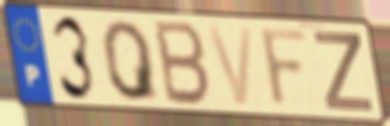3: (48, 14, 99, 103)
B: (153, 17, 213, 110)
F: (257, 26, 312, 111)
Q: (99, 19, 163, 104)
V: (204, 23, 256, 108)
Z: (311, 28, 376, 115)
